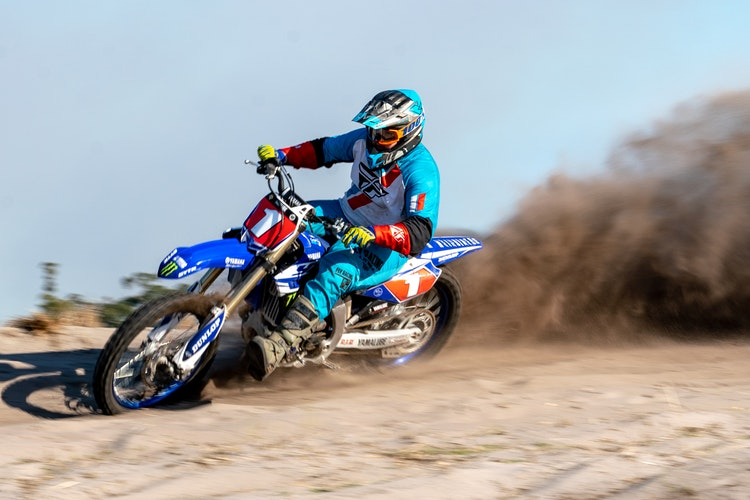helmet: (355, 76, 433, 172)
